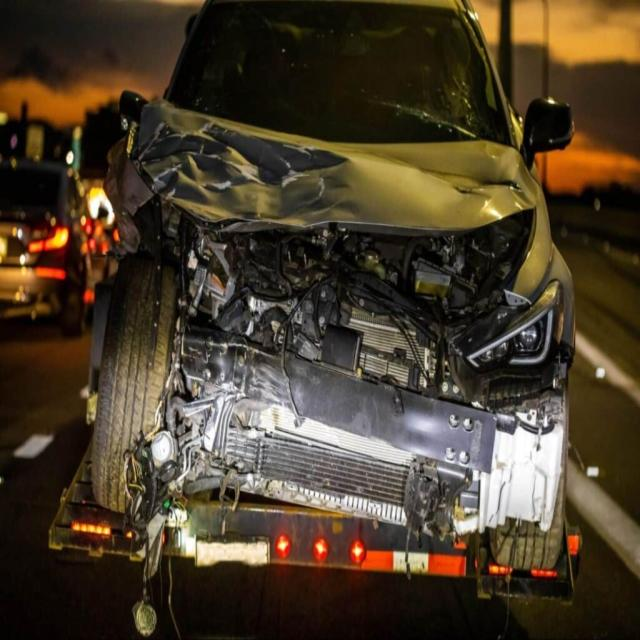crush: (105, 95, 574, 581)
